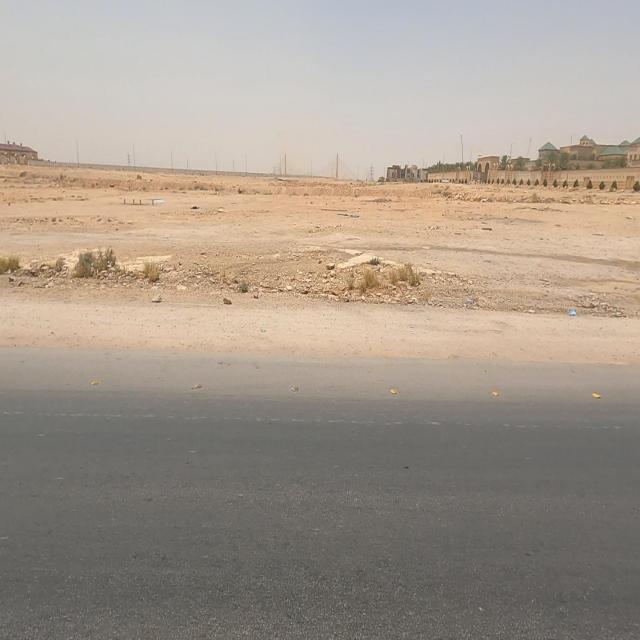debris: (545, 266, 590, 340)
